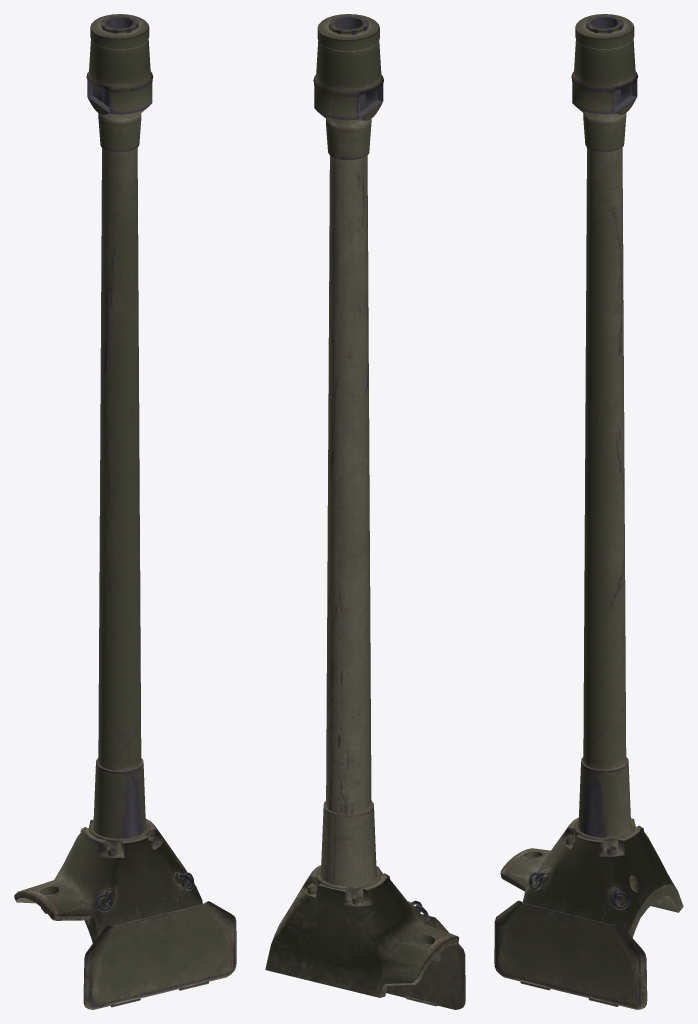
The model's file is Gun_08.glb.
The picture shows the model from 3 angles, left to right: view 1: azimuth 30°, elevation 25°; view 2: azimuth 150°, elevation 25°; view 3: azimuth 330°, elevation 25°; orthographic projection. The views are drawn at different scales.
Visible parts, largest first — view 1: set_0_group_0, set_0_group_1; view 2: set_0_group_0, set_0_group_1; view 3: set_0_group_0, set_0_group_1.
Part boxes in pixels (x1,y1,x2,y2): set_0_group_0: [14, 14, 202, 943]; set_0_group_1: [83, 901, 236, 1009]; set_0_group_0: [265, 14, 459, 997]; set_0_group_1: [386, 914, 465, 1009]; set_0_group_0: [500, 14, 683, 937]; set_0_group_1: [494, 900, 647, 1009].
Bounding box in the file's own units: 0.9289 × 5.07 × 0.629.
2 materials, 2 textured.
